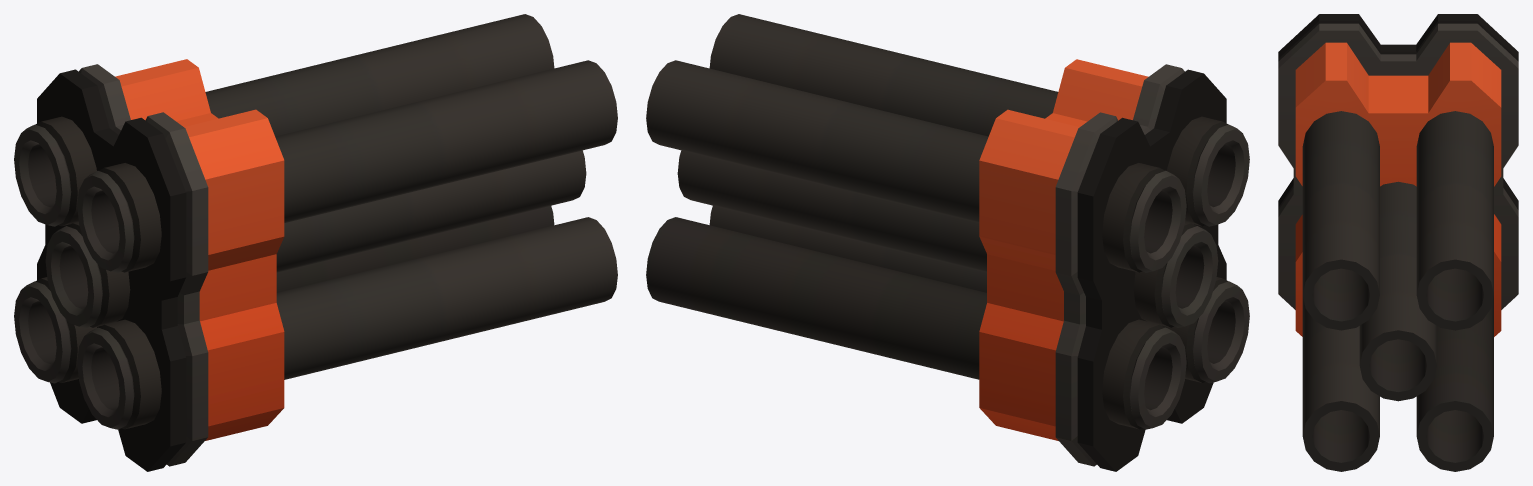
The model's file is GL4_RocketContainer.fbx.
3 renders of one model, left to right at view 1: azimuth 30°, elevation 25°; view 2: azimuth 150°, elevation 25°; view 3: azimuth 270°, elevation 25°, orthographic. The views are drawn at different scales.
Parts seen in each view (by area): view 1: GL4_RocketContainer; view 2: GL4_RocketContainer; view 3: GL4_RocketContainer.
Part boxes in pixels (x1=…): GL4_RocketContainer: x1=14, y1=14, x2=617, y2=471; GL4_RocketContainer: x1=646, y1=14, x2=1249, y2=471; GL4_RocketContainer: x1=1278, y1=14, x2=1518, y2=471.
Size of the model in its own units: 50.71 by 32.71 by 23.64.
